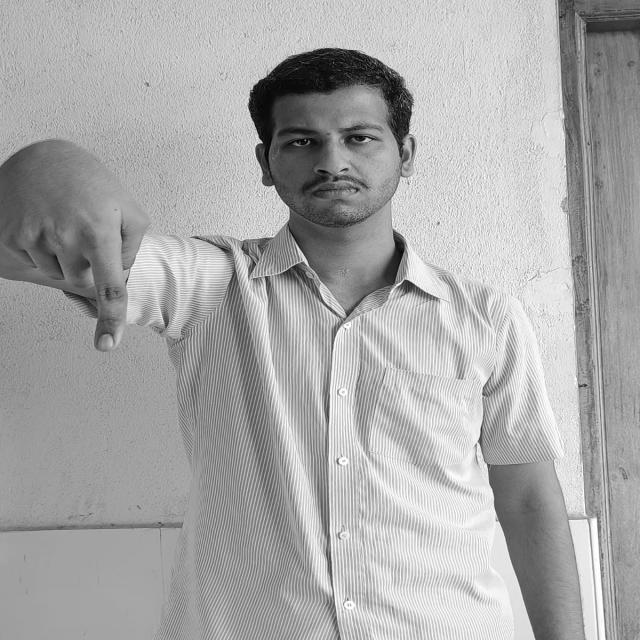Now: (0, 140, 152, 352)
